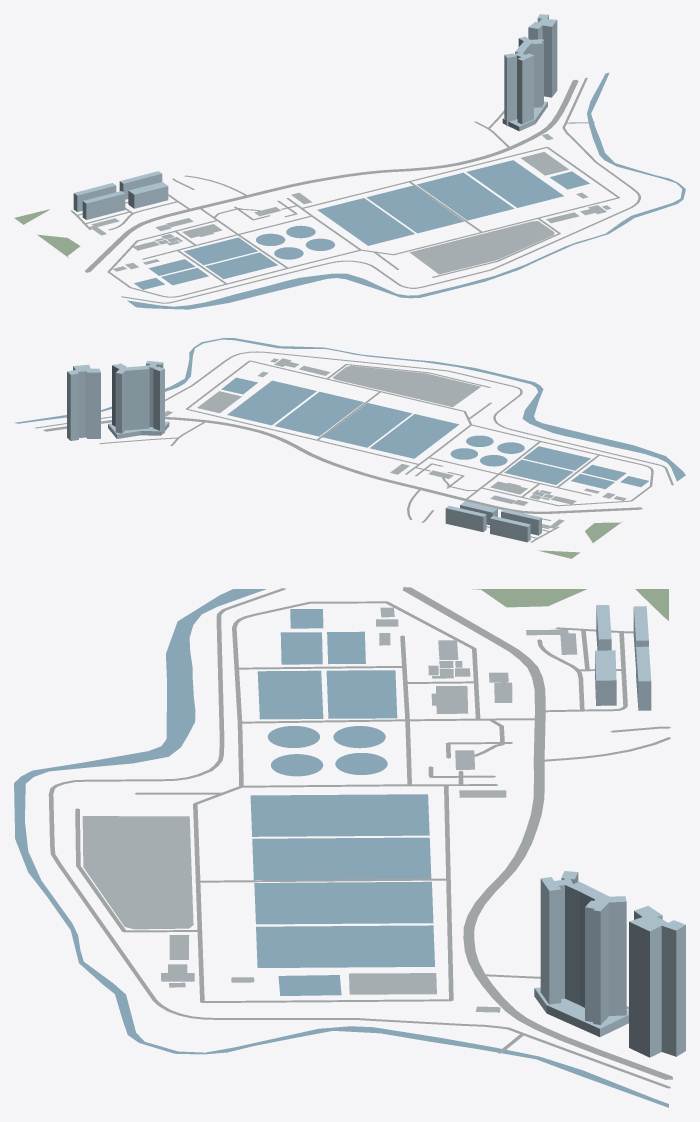
Rendered from 12_0-known-coarse.glb.
3 views of the same model, one above another, from view 1: azimuth 30°, elevation 25°; view 2: azimuth 150°, elevation 25°; view 3: azimuth 270°, elevation 25° (orthographic). The views are drawn at different scales.
Size of the model in its own units: 796 by 90 by 434.
